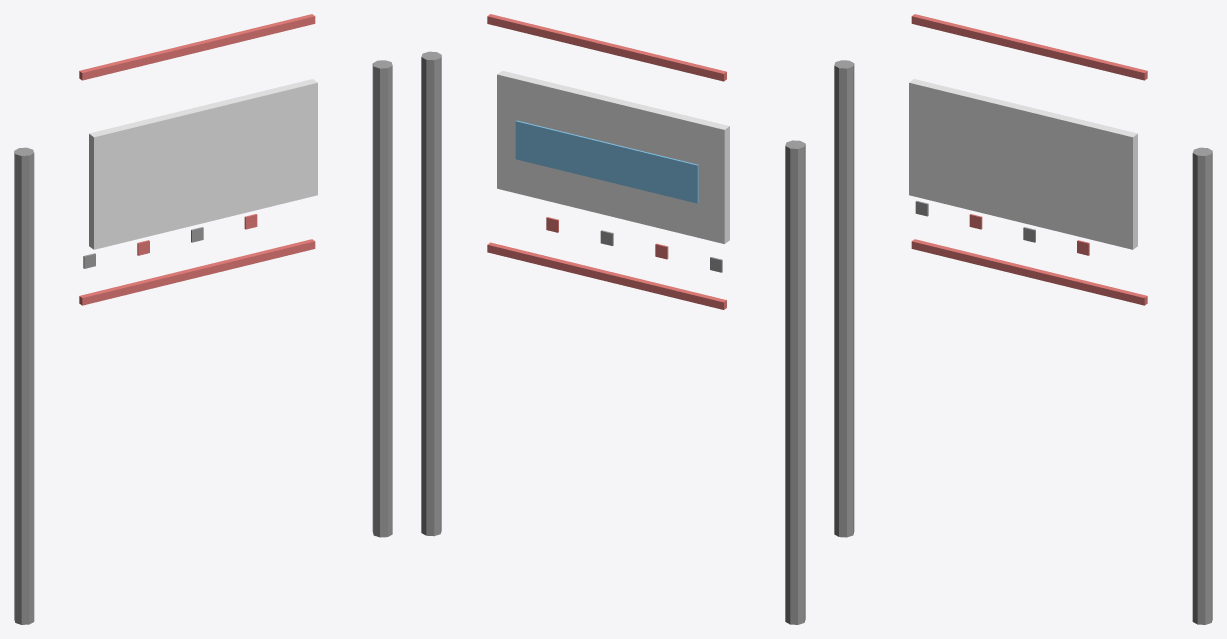
Rendered from billboard.glb.
3 renders of one model, left to right at view 1: azimuth 30°, elevation 25°; view 2: azimuth 150°, elevation 25°; view 3: azimuth 330°, elevation 25°, orthographic.
Parts seen in each view (by area): view 1: billboard; view 2: billboard; view 3: billboard.
Boxes of the visible parts, x1=… form: billboard: x1=14, y1=14, x2=392, y2=624; billboard: x1=421, y1=14, x2=805, y2=624; billboard: x1=834, y1=14, x2=1212, y2=624.
Bounding box in the file's own units: 2.1 × 2.82 × 0.125.
